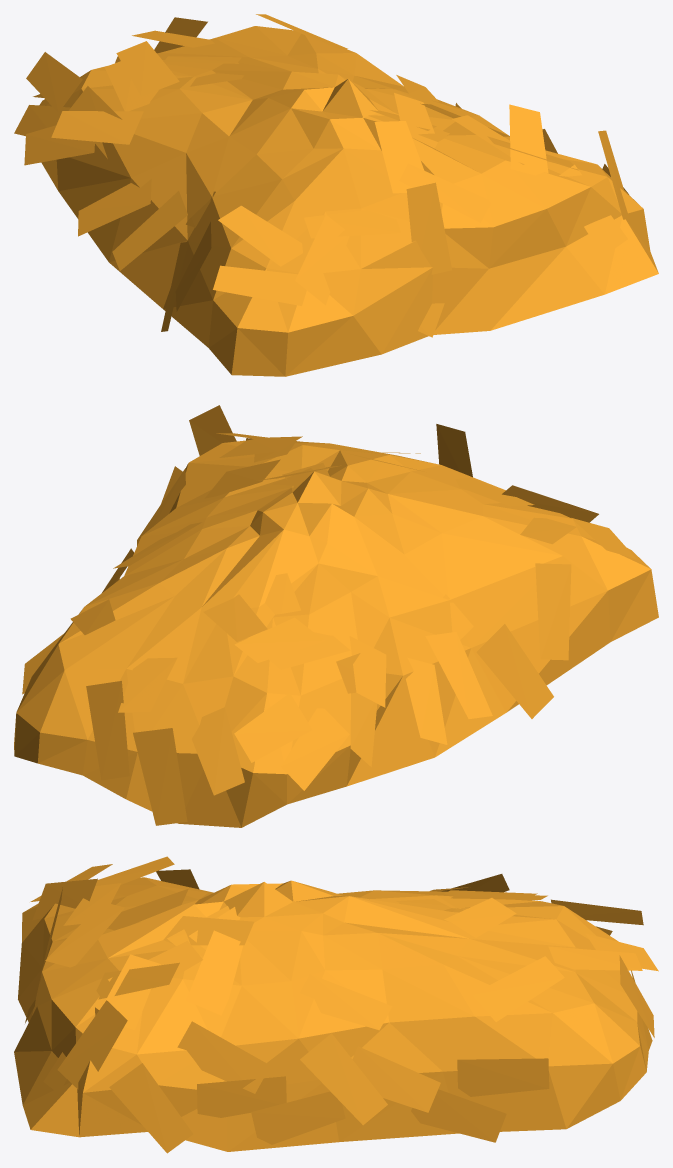
File: SM_Hay_Wheelbarrow_Fresh.fbx
3 views of the same model, one above another, from view 1: azimuth 30°, elevation 25°; view 2: azimuth 150°, elevation 25°; view 3: azimuth 270°, elevation 25° (orthographic). The views are drawn at different scales.
Visible parts, largest first — view 1: hay-wheelbarrow-fresh; view 2: hay-wheelbarrow-fresh; view 3: hay-wheelbarrow-fresh.
Part boxes in pixels (<box>): hay-wheelbarrow-fresh: <box>14,14,658,376</box>; hay-wheelbarrow-fresh: <box>14,405,658,827</box>; hay-wheelbarrow-fresh: <box>14,856,658,1153</box>.
Size of the model in its own units: 0.5766 by 0.2515 by 0.7507.
